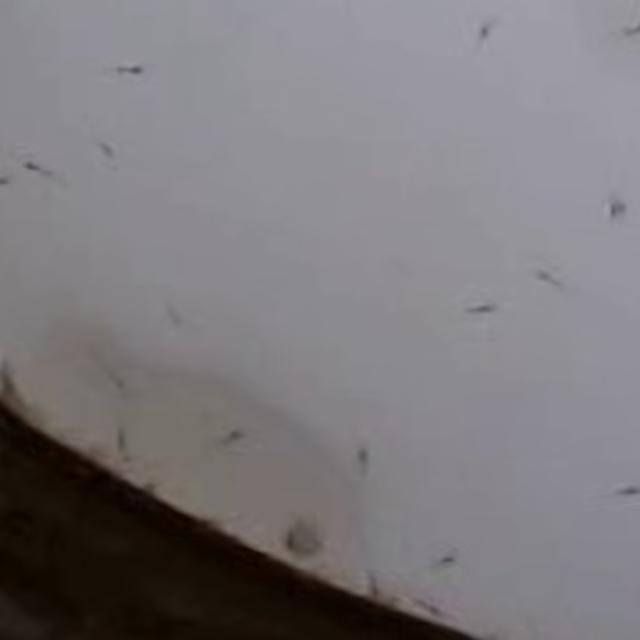shrimp-seed: (80, 119, 139, 167), (18, 145, 76, 193), (99, 418, 145, 474), (210, 421, 264, 462), (530, 253, 584, 292), (95, 53, 158, 83), (86, 346, 139, 381), (351, 430, 387, 476), (600, 474, 640, 511), (421, 541, 464, 572), (455, 288, 501, 316), (604, 184, 630, 231), (467, 5, 499, 34), (360, 569, 384, 598), (0, 176, 27, 199)
